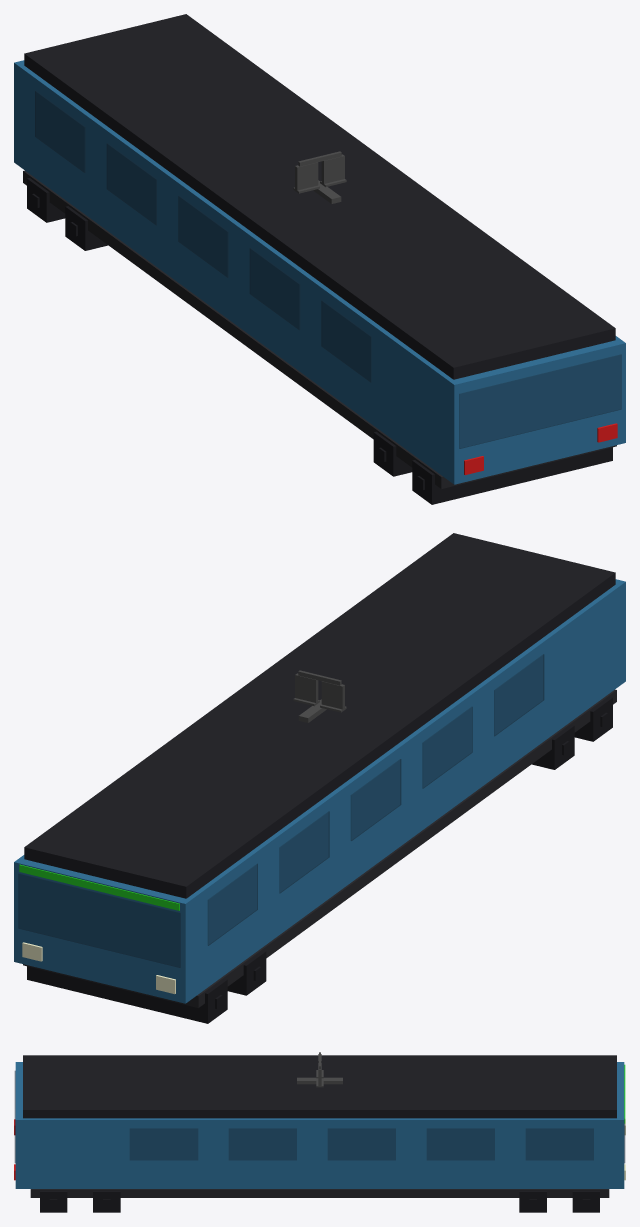
File: tram_bordeaux.obj
The picture shows the model from 3 angles, top to bottom: view 1: azimuth 30°, elevation 25°; view 2: azimuth 150°, elevation 25°; view 3: azimuth 270°, elevation 25°; orthographic projection. The views are drawn at different scales.
Bounding box in the file's own units: 1.94 × 1.78 × 8.04.
